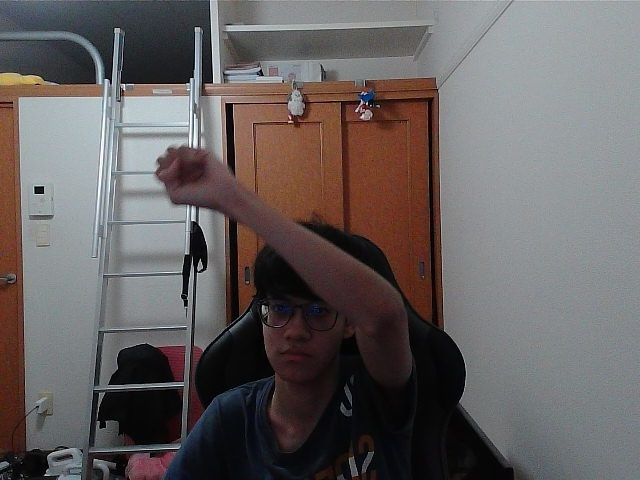closed_palm: (160, 149, 221, 200)
